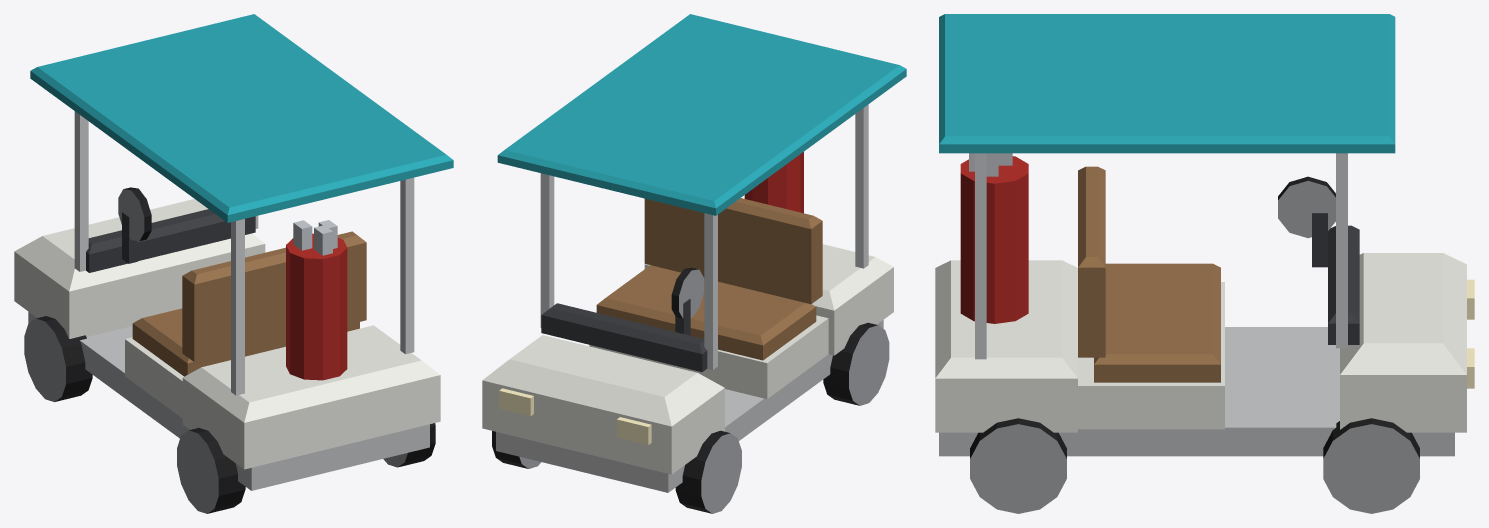
File: cart_cyan.glb
The picture shows the model from 3 angles, left to right: view 1: azimuth 30°, elevation 25°; view 2: azimuth 150°, elevation 25°; view 3: azimuth 270°, elevation 25°; orthographic projection. The views are drawn at different scales.
Parts seen in each view (by area): view 1: cart_body; view 2: cart_body; view 3: cart_body.
Part boxes in pixels (x1,y1,x2,y2): cart_body: (14,14,453,513); cart_body: (482,14,906,513); cart_body: (935,14,1474,513).
Size of the model in its own units: 1.52 by 2.1 by 2.72.
Materials: 1 (1 with a texture image).
